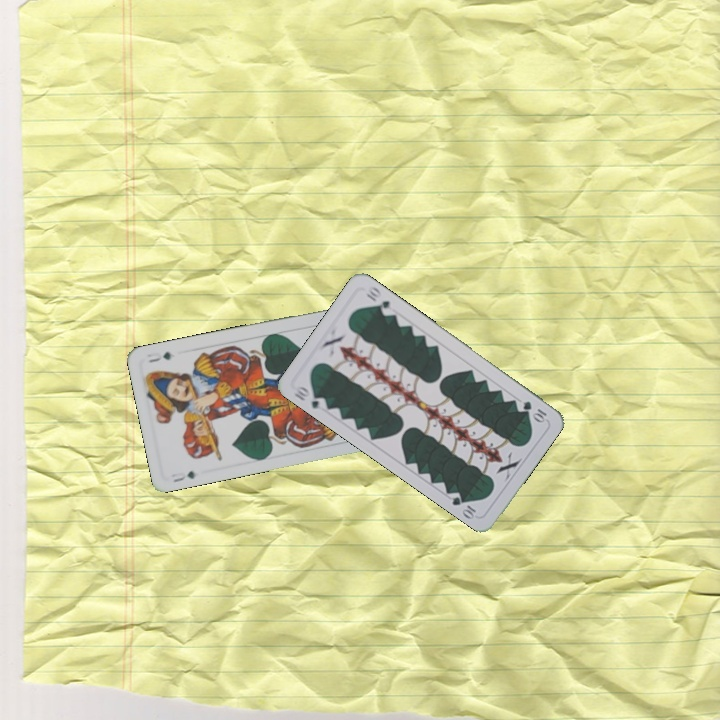G10: (290, 382, 329, 413), (519, 397, 549, 425)
GU: (169, 467, 198, 485)
